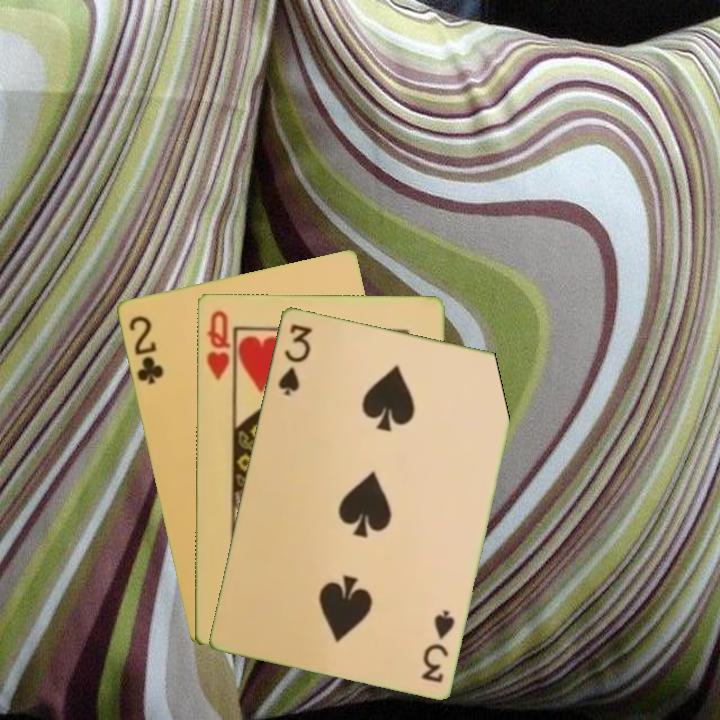2c: (124, 311, 166, 387)
3s: (417, 606, 457, 685), (274, 320, 314, 398)
Qh: (202, 307, 233, 383)
